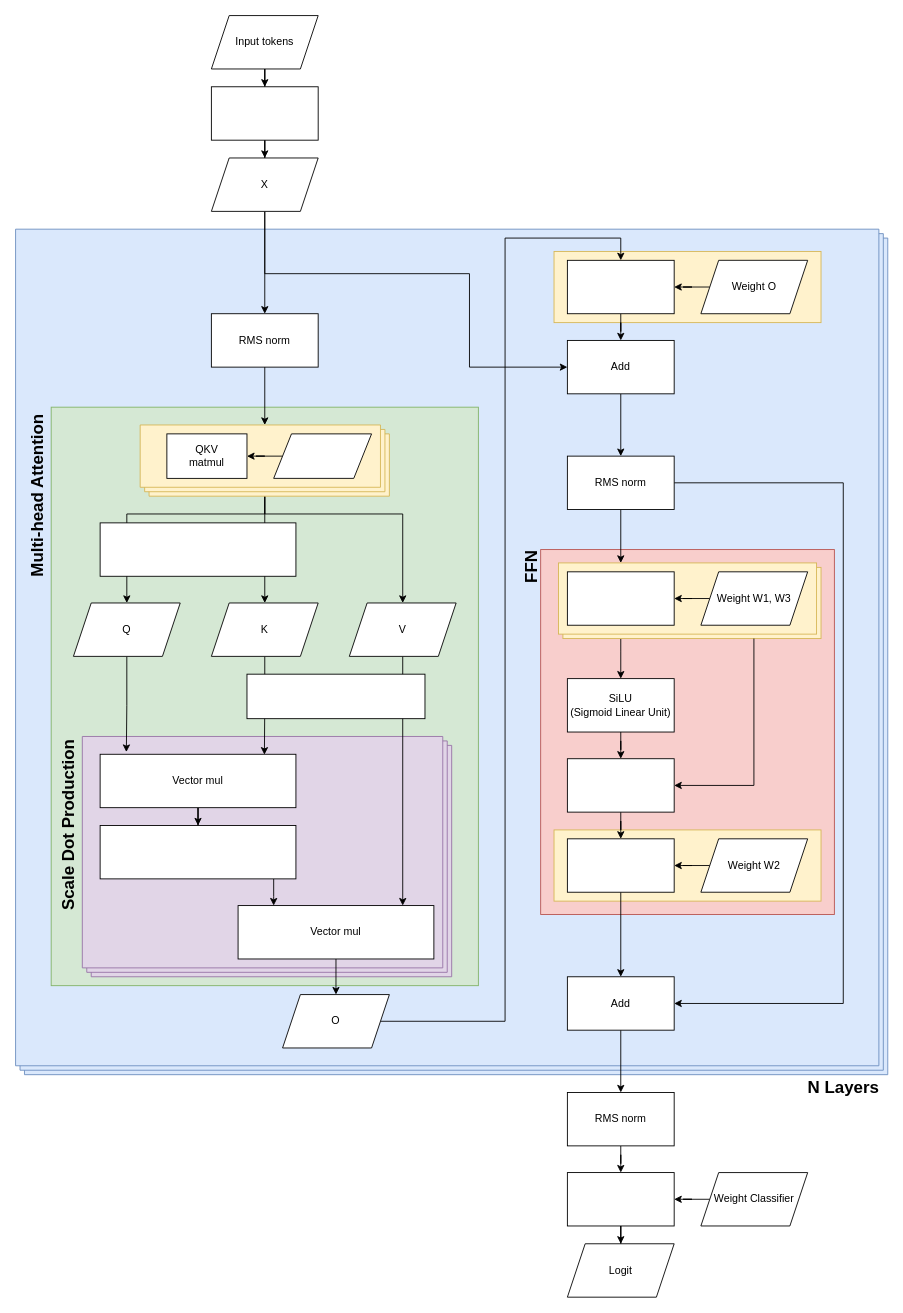
The diagram is 903 pixels wide and 1313 high, and some of its shapes have lost their labels. Each missing label, with the centre of its shape:
Elementwise Multiply: the point at 620,785
Embedding: the point at 264,113
Final matmul of FFN: the point at 620,865
KV cache: the point at 335,696
Matmul: the point at 620,1199
Matmul W1, W3: the point at 620,598
O Matmul: the point at 620,286
Rotary Relative Positional Encoding: the point at 197,549
Softmax: the point at 197,852
Weight QKV (dim, dim): the point at 322,455
